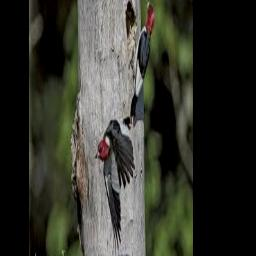Woodpecker: (95, 120, 135, 253), (130, 0, 154, 116)
